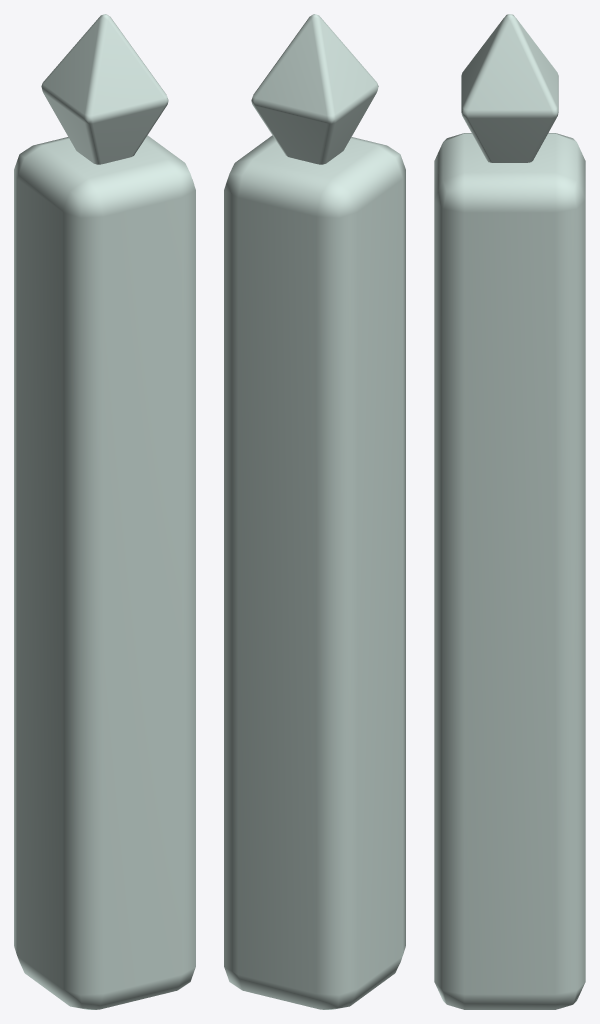
The model's file is Wall2.fbx.
3 renders of one model, left to right at view 1: azimuth 30°, elevation 25°; view 2: azimuth 150°, elevation 25°; view 3: azimuth 270°, elevation 25°, orthographic.
Parts seen in each view (by area): view 1: pCube33; view 2: pCube33; view 3: pCube33.
Part boxes in pixels (x1=…): pCube33: x1=14, y1=14, x2=195, y2=1009; pCube33: x1=224, y1=14, x2=405, y2=1009; pCube33: x1=434, y1=14, x2=585, y2=1009.
Bounding box in the file's own units: 33.25 × 236 × 33.25.
